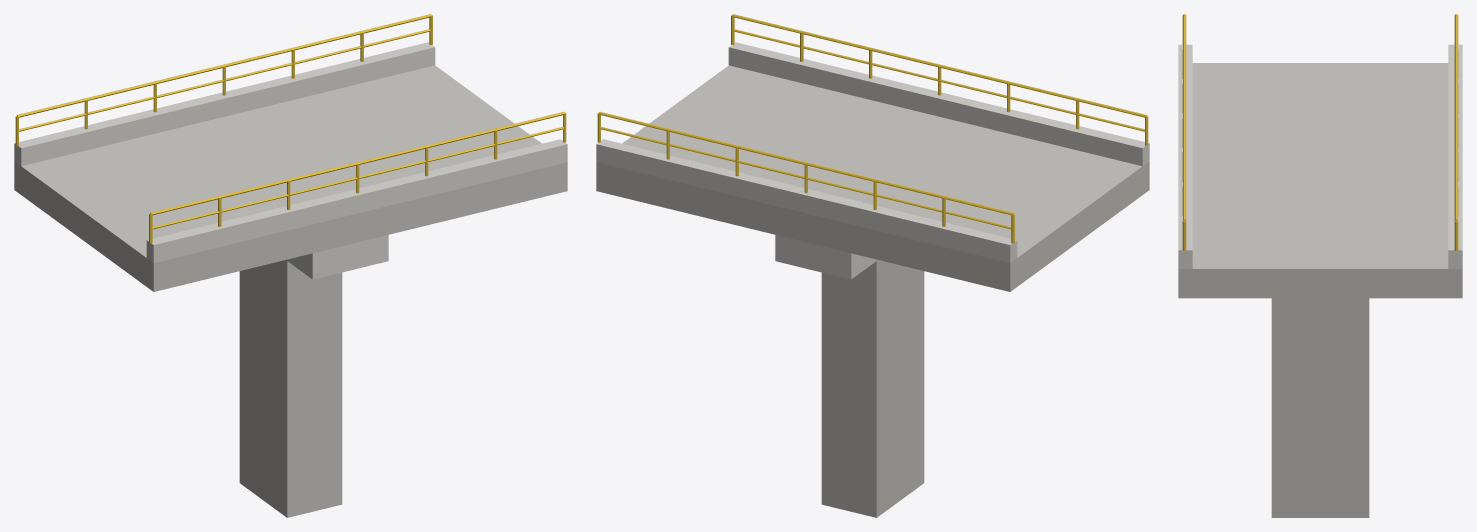
The model's file is a_viaduct_seg.glb.
The picture shows the model from 3 angles, left to right: view 1: azimuth 30°, elevation 25°; view 2: azimuth 150°, elevation 25°; view 3: azimuth 270°, elevation 25°; orthographic projection.
Visible parts, largest first — view 1: deck, pier, curb.001, curb, rail_-1, rail_1, pier_cap; view 2: deck, pier, curb, curb.001, rail_1, rail_-1, pier_cap; view 3: deck, pier, curb, curb.001, rail_-1, rail_1.
Boxes of the visible parts, x1,y1,x2,y2 form: deck: (14,65,567,291); pier: (239,260,342,517); curb.001: (14,42,435,166); curb: (146,139,567,262); rail_-1: (149,111,566,243); rail_1: (15,14,432,145); pier_cap: (286,235,388,279); deck: (596,65,1149,291); pier: (821,260,924,517); curb: (728,42,1149,166); curb.001: (596,139,1017,262); rail_1: (597,111,1014,243); rail_-1: (731,14,1148,145); pier_cap: (775,235,877,279); deck: (1178,63,1462,298); pier: (1271,298,1369,517); curb: (1178,44,1192,268); curb.001: (1448,44,1462,268); rail_-1: (1182,14,1186,250); rail_1: (1454,14,1458,250).
Bounding box in the file's own units: 12.08 × 10.53 × 7.
